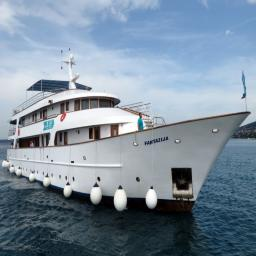cruises: (3, 49, 254, 213)
